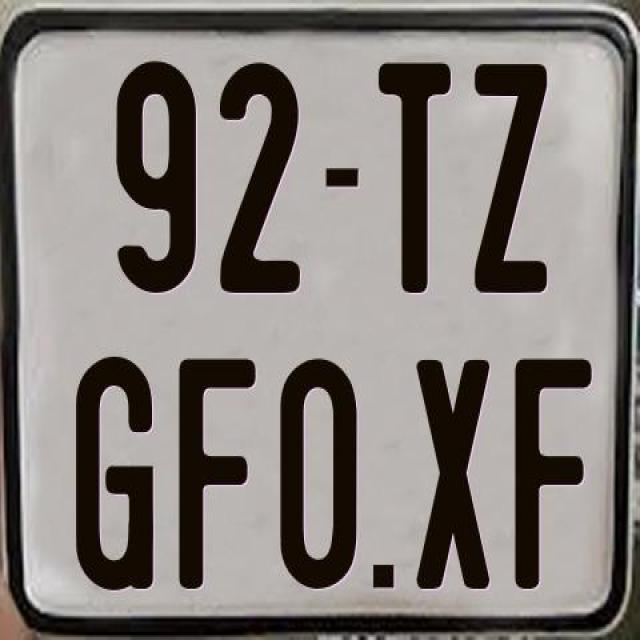0: (277, 355, 355, 595)
2: (218, 61, 306, 300)
9: (112, 56, 196, 291)
F: (178, 358, 262, 596), (514, 353, 594, 588)
G: (75, 356, 154, 594)
T: (377, 58, 455, 294)
X: (413, 358, 491, 592)
Z: (472, 62, 551, 296)
